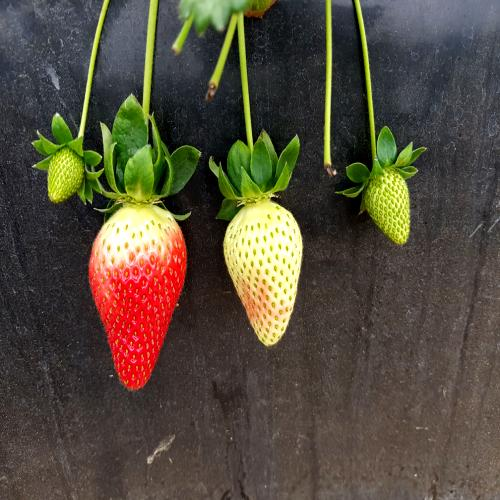partially-ripe: (84, 200, 194, 399)
unripe: (219, 198, 311, 352)
